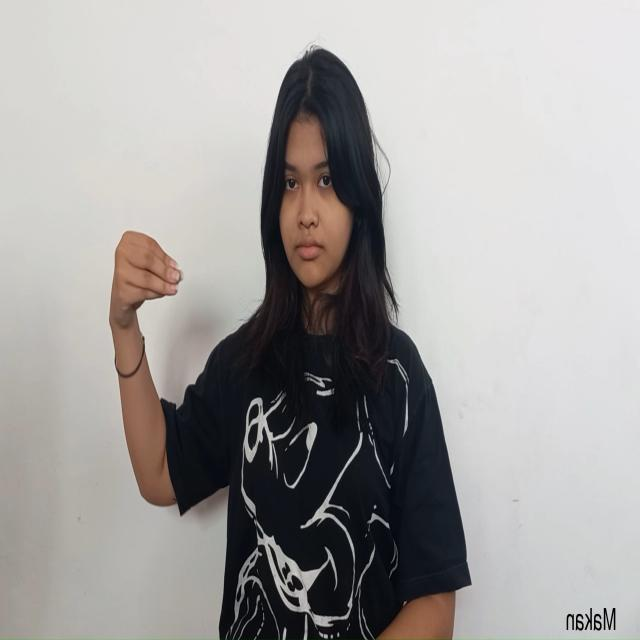Makan -BISINDO-: (109, 228, 185, 362)
